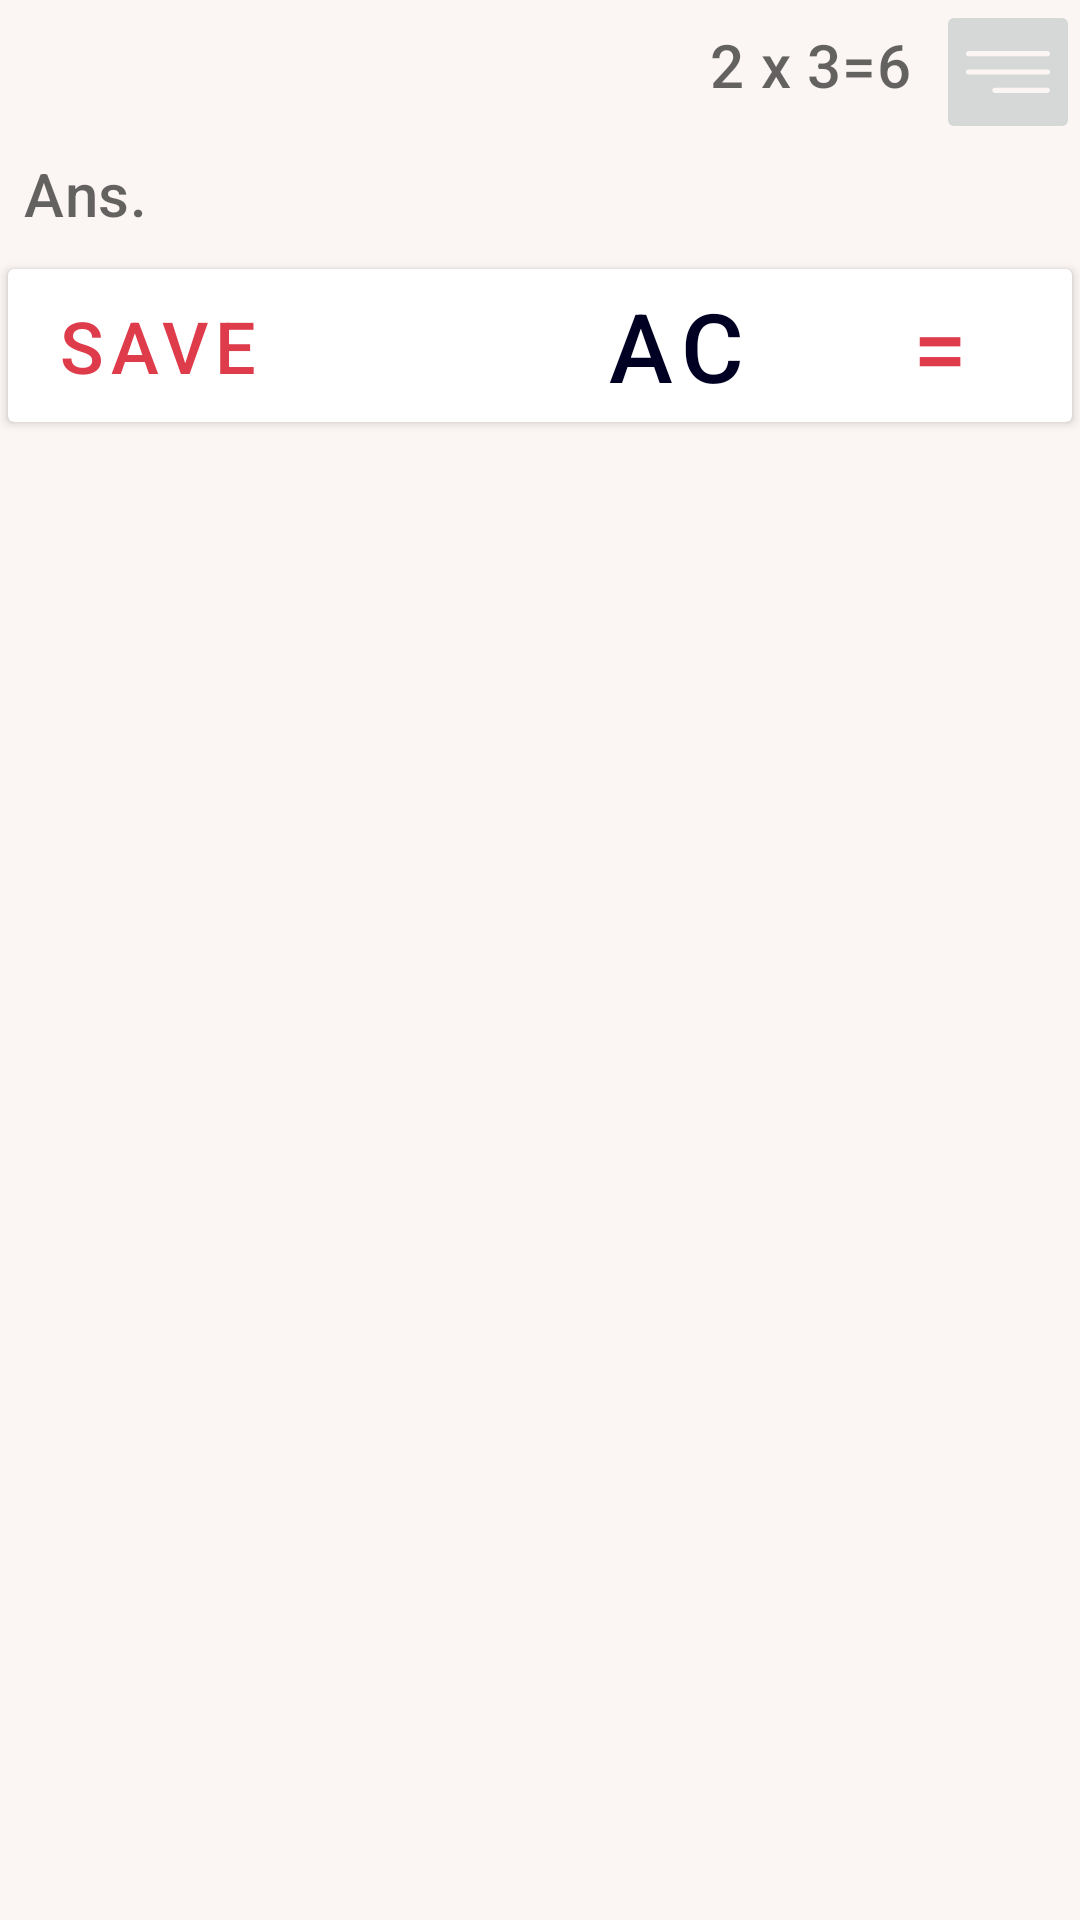

Point at icon controls on the screen. Image size 1080×1920, points as point (x, y).
menu: point (1008, 72)
